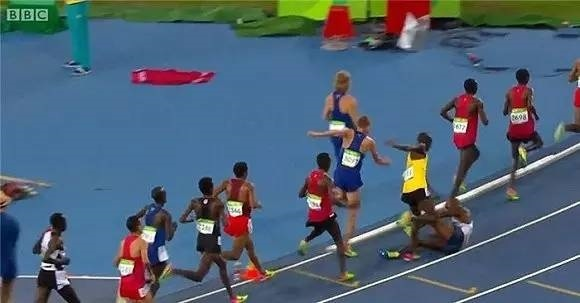falling: (382, 189, 480, 264)
